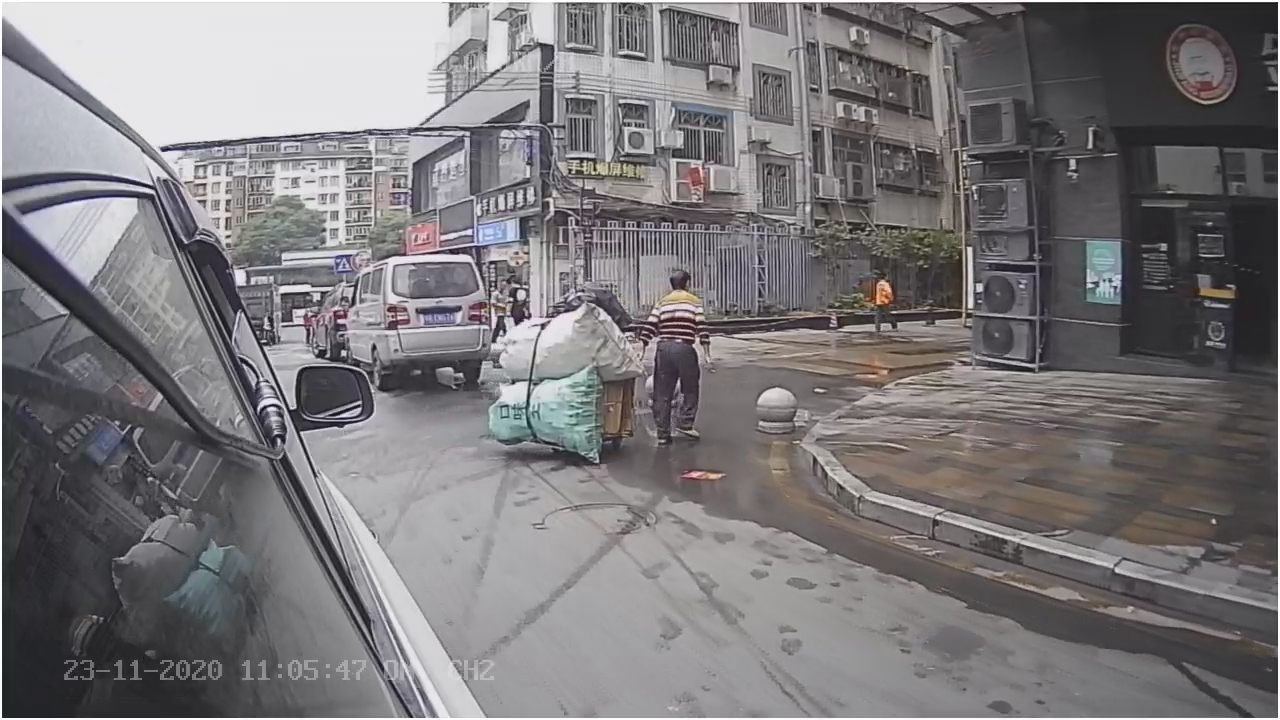person: (646, 269, 714, 451)
